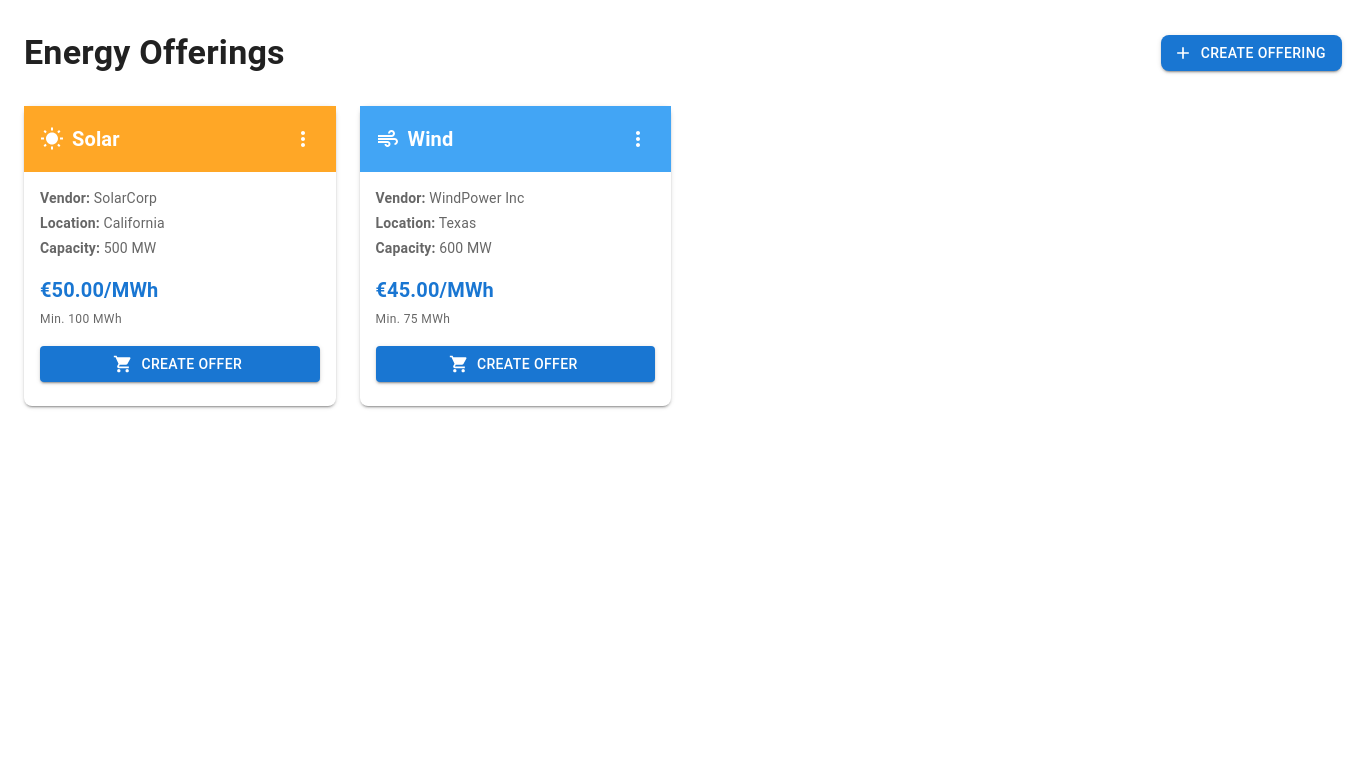
it: OfferingList - Integration Tests › should open and close the modal when viewing details
Click the button with test id "create-offer-btn" below "100" at (180, 364), box left=40, top=346, right=320, bottom=382
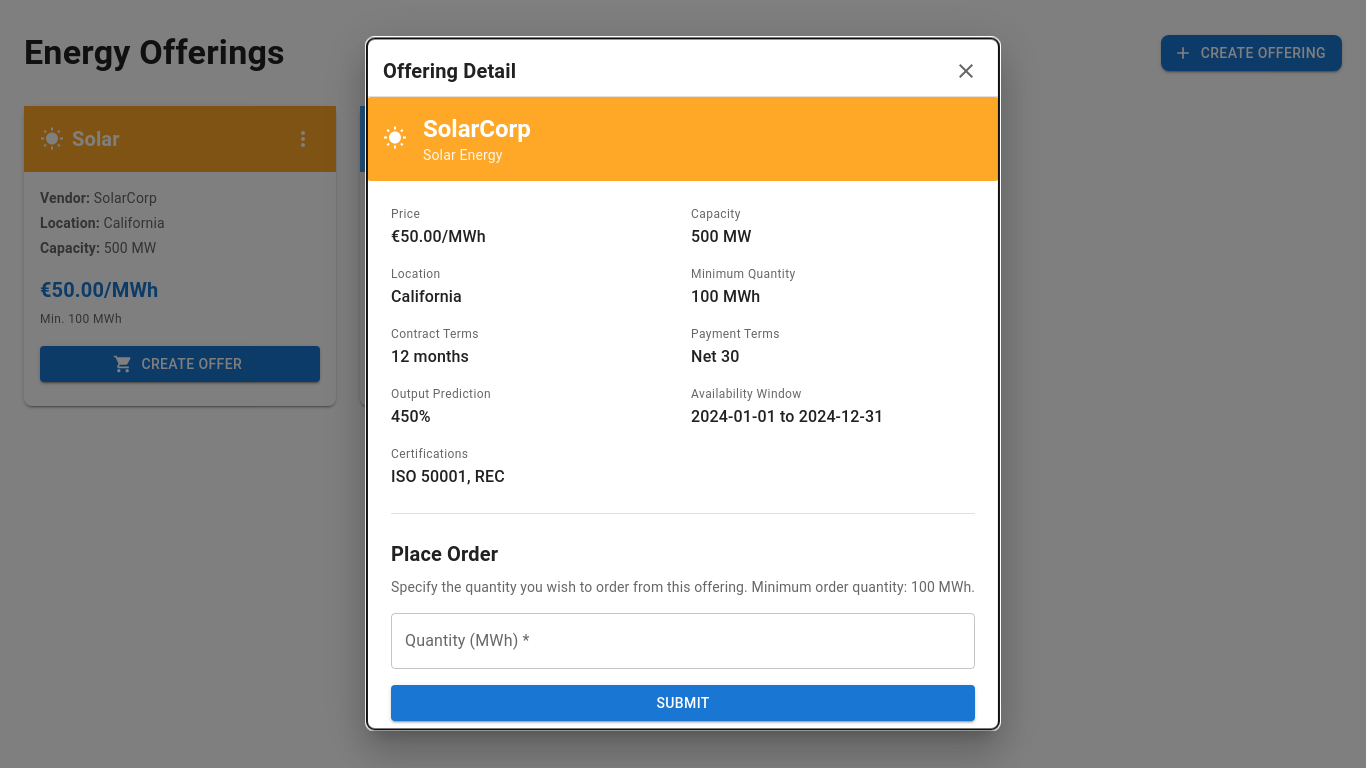
Expected: the button named "close modal" is shown
Expected: the heading "Offering Detail" is shown, left=383, top=55, right=516, bottom=87
Click the button named "close modal" at (966, 71), box left=949, top=54, right=983, bottom=88
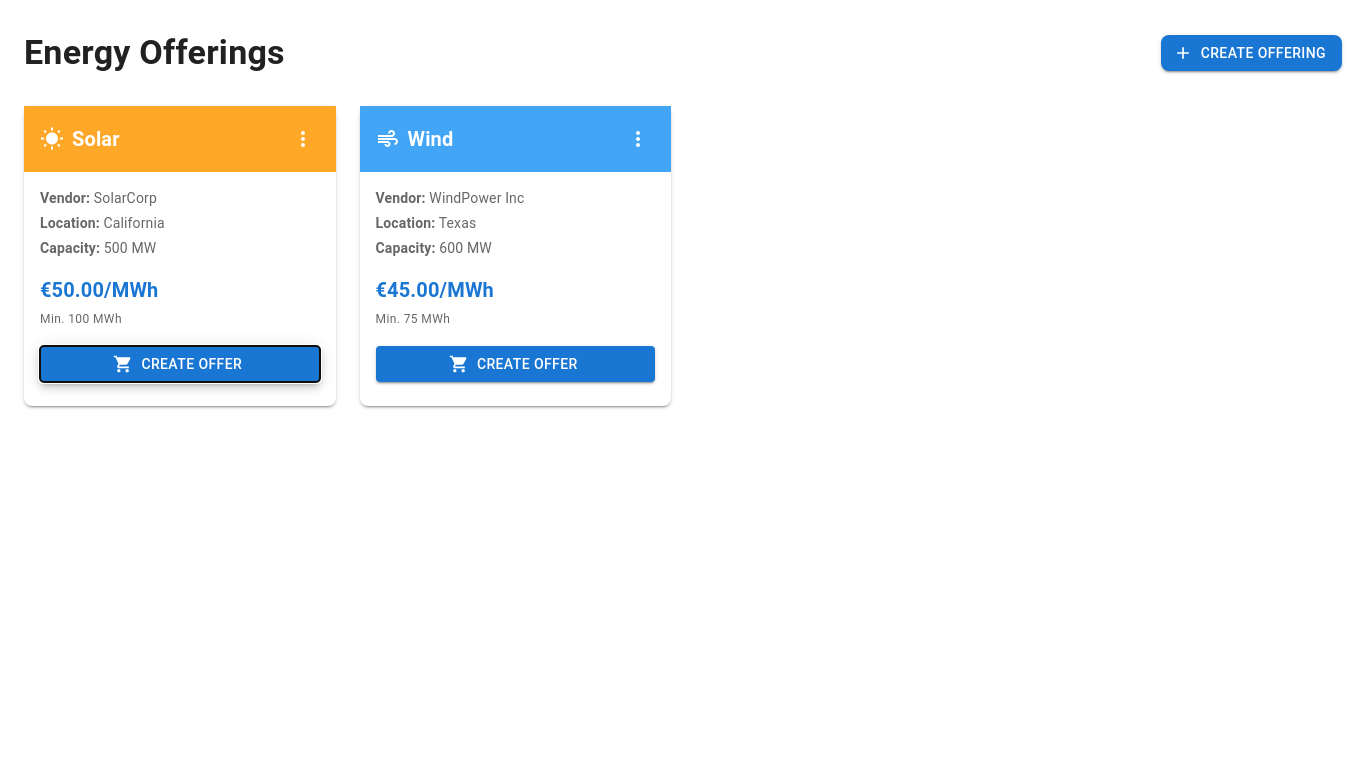
Expected: the heading "Offering Detail" is gone
